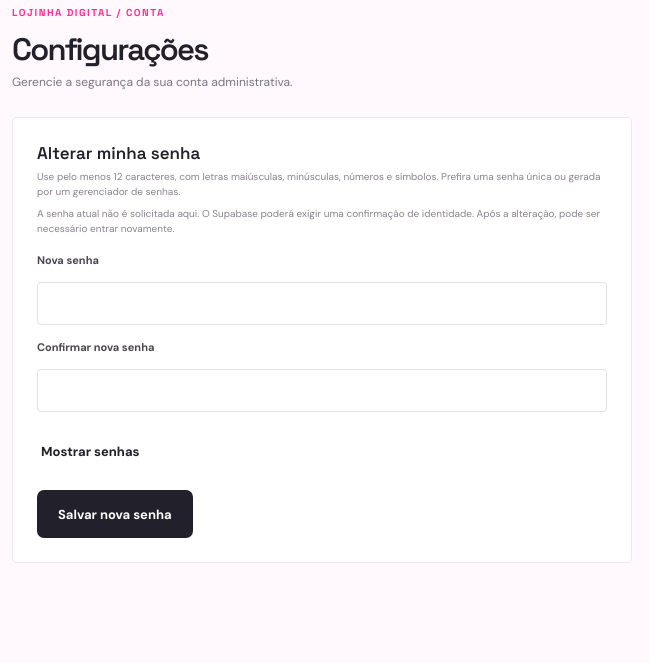
it: alteração de senha administrativa › envia apenas a nova senha e limpa os campos no sucesso
This screenshot has width=649, height=663.
Type "Teste-Seguro123!" into the password field labelled "Nova senha" at [322, 304], box [37,282,607,325]
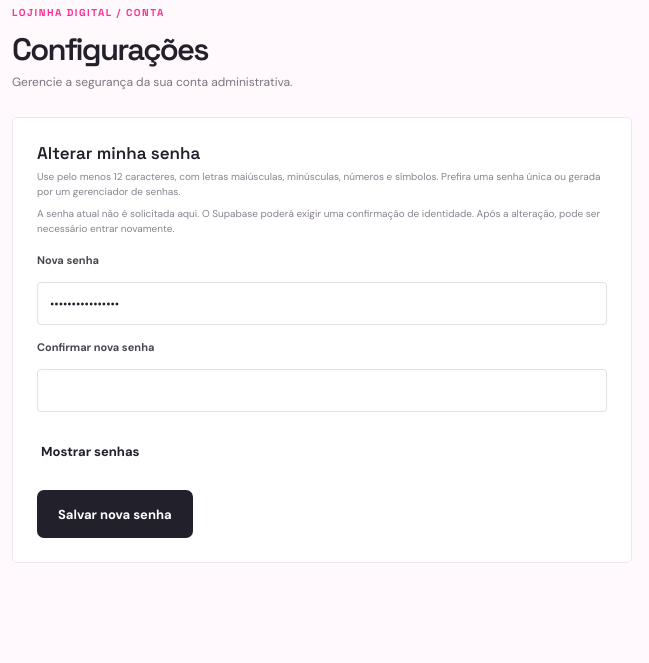
Type "Teste-Seguro123!" into the password field labelled "Confirmar nova senha" at [322, 390], box [37,369,607,412]
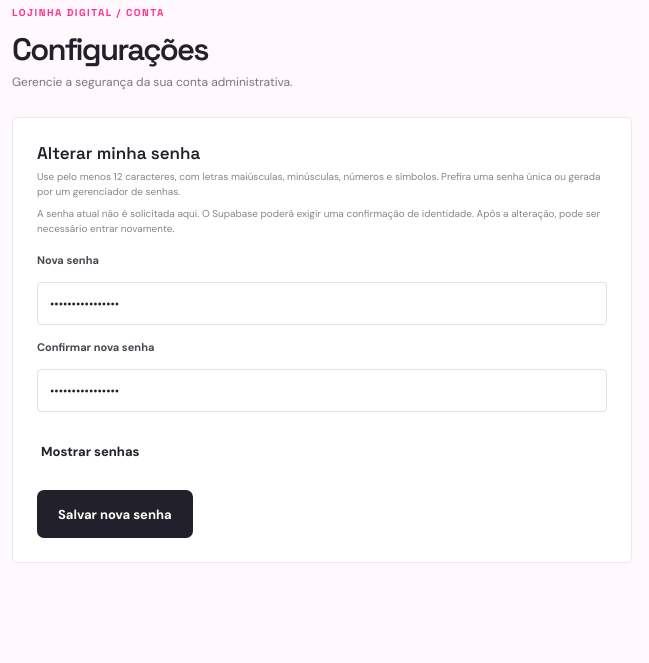
Submit the form named "Salvar nova senha"
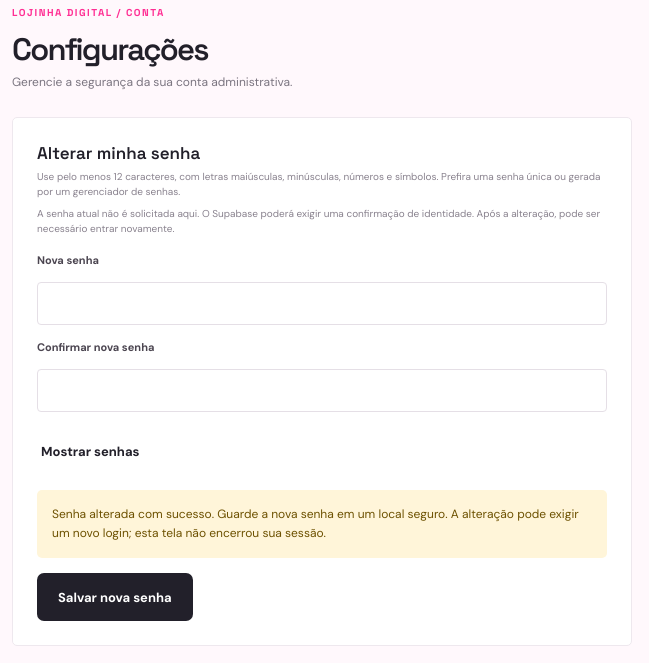
Now the message shows "Senha alterada com sucesso", box [52,506,579,541]
Now the password field labelled "Nova senha" is empty, box [37,282,607,325]
Now the password field labelled "Confirmar nova senha" is empty, box [37,369,607,412]
